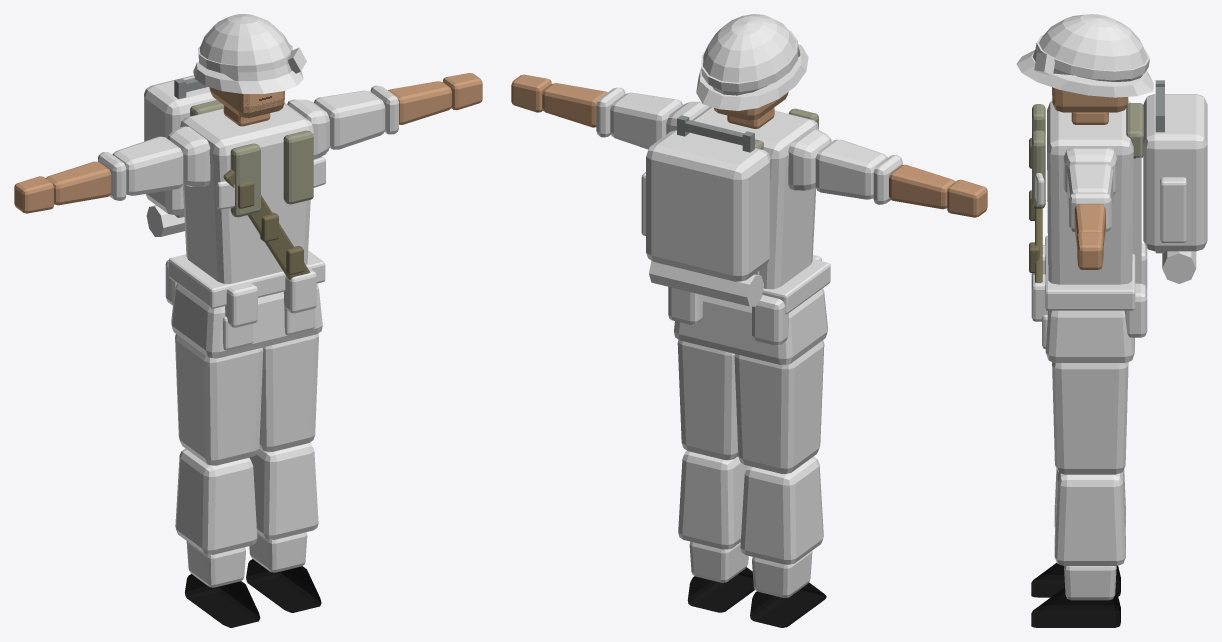
File: us_grunt_mixamo.fbx
The picture shows the model from 3 angles, left to right: view 1: azimuth 30°, elevation 25°; view 2: azimuth 150°, elevation 25°; view 3: azimuth 270°, elevation 25°; orthographic projection.
Visible parts, largest first — view 1: US_Grunt; view 2: US_Grunt; view 3: US_Grunt.
Boxes of the visible parts, <box> form: US_Grunt: <box>14,14,482,627</box>; US_Grunt: <box>511,14,987,627</box>; US_Grunt: <box>1016,14,1207,627</box>.
Bounding box in the file's own units: 143 × 171 × 50.54.
Materials: 13 (1 with a texture image).
